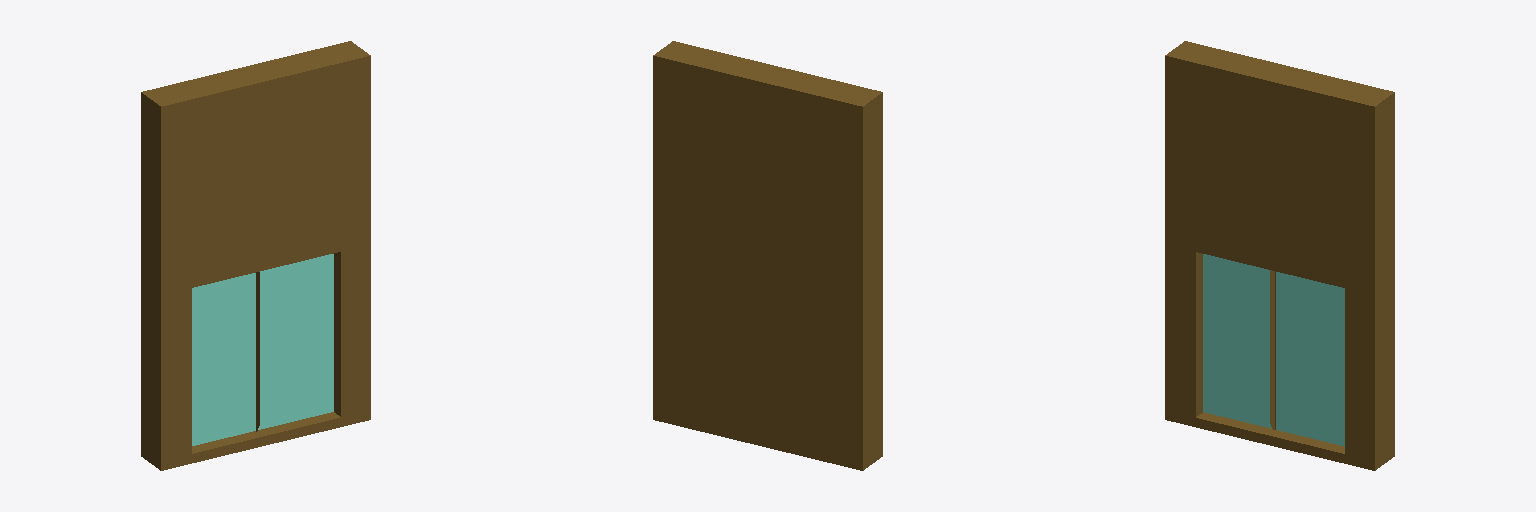
File: ingresso.obj
3 views of the same model, side by side, from view 1: azimuth 30°, elevation 25°; view 2: azimuth 150°, elevation 25°; view 3: azimuth 330°, elevation 25° (orthographic).
Parts seen in each view (by area): view 1: Cubo.001; view 2: Cubo.001; view 3: Cubo.001.
Boxes of the visible parts, box(x1,y1,x2,y2) form: Cubo.001: box(141, 41, 370, 470); Cubo.001: box(653, 41, 882, 470); Cubo.001: box(1165, 41, 1394, 470).
Bounding box in the file's own units: 2.74 × 4.55 × 0.4565.